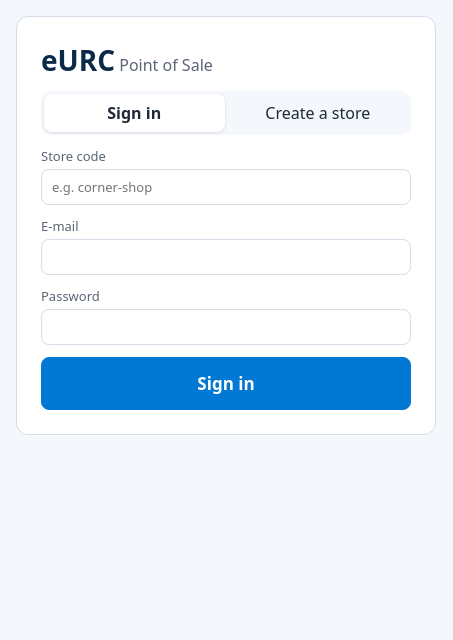
<Login> › create-store mode asks for store and manager names
Click the tab "Create a store" at point(318, 113), box 228,94 -> 408,132
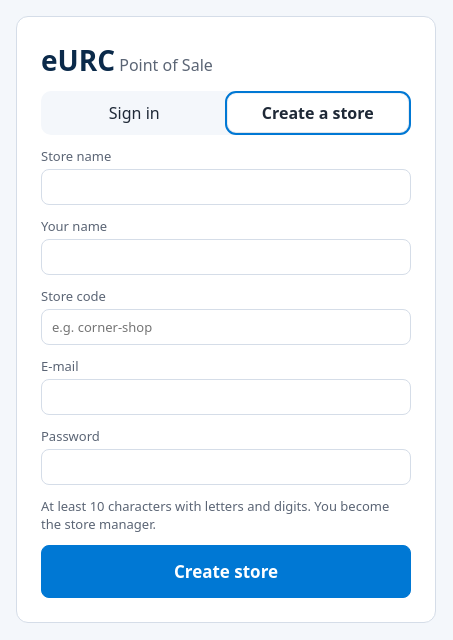
Expected: the field labelled "Your name" is shown, 41,239 -> 411,275
Expected: the field labelled "Store name" is shown, 41,169 -> 411,205
Expected: the button "Create store" is shown, 41,545 -> 411,598
